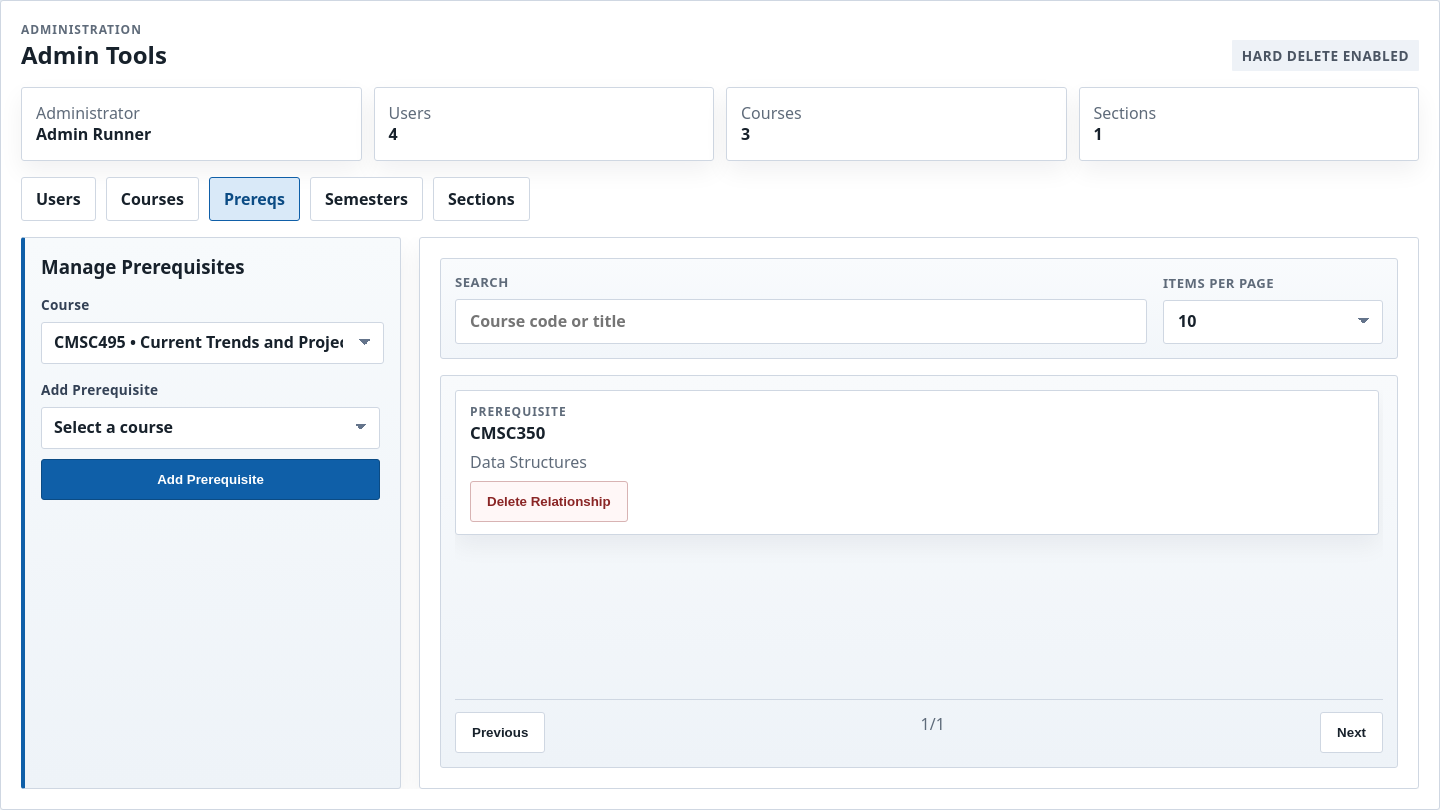
Scenario: AdminConsolePage › surfaces prerequisite cycle errors in the prerequisite workflow
The image size is (1440, 810).
expect the heading "Manage Prerequisites" is shown: met, box [41,254,245,279]
Step 1. Select "CMSC350 • Data Structures" in the dropdown labelled "Add Prerequisite" → point(210, 428), box [41,407,380,449]
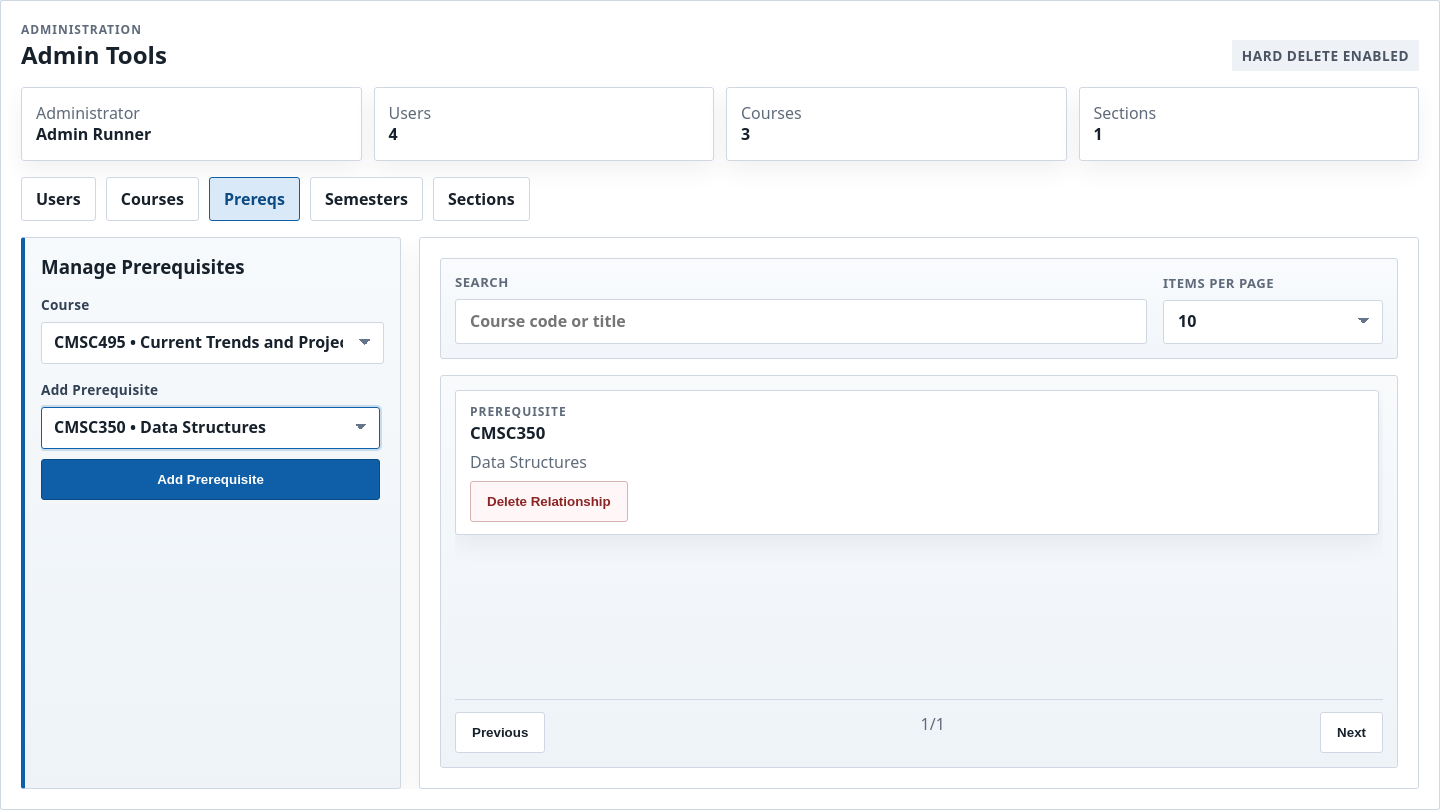
Step 2. Click the button "Add Prerequisite" → point(210, 479), box [41,459,380,500]
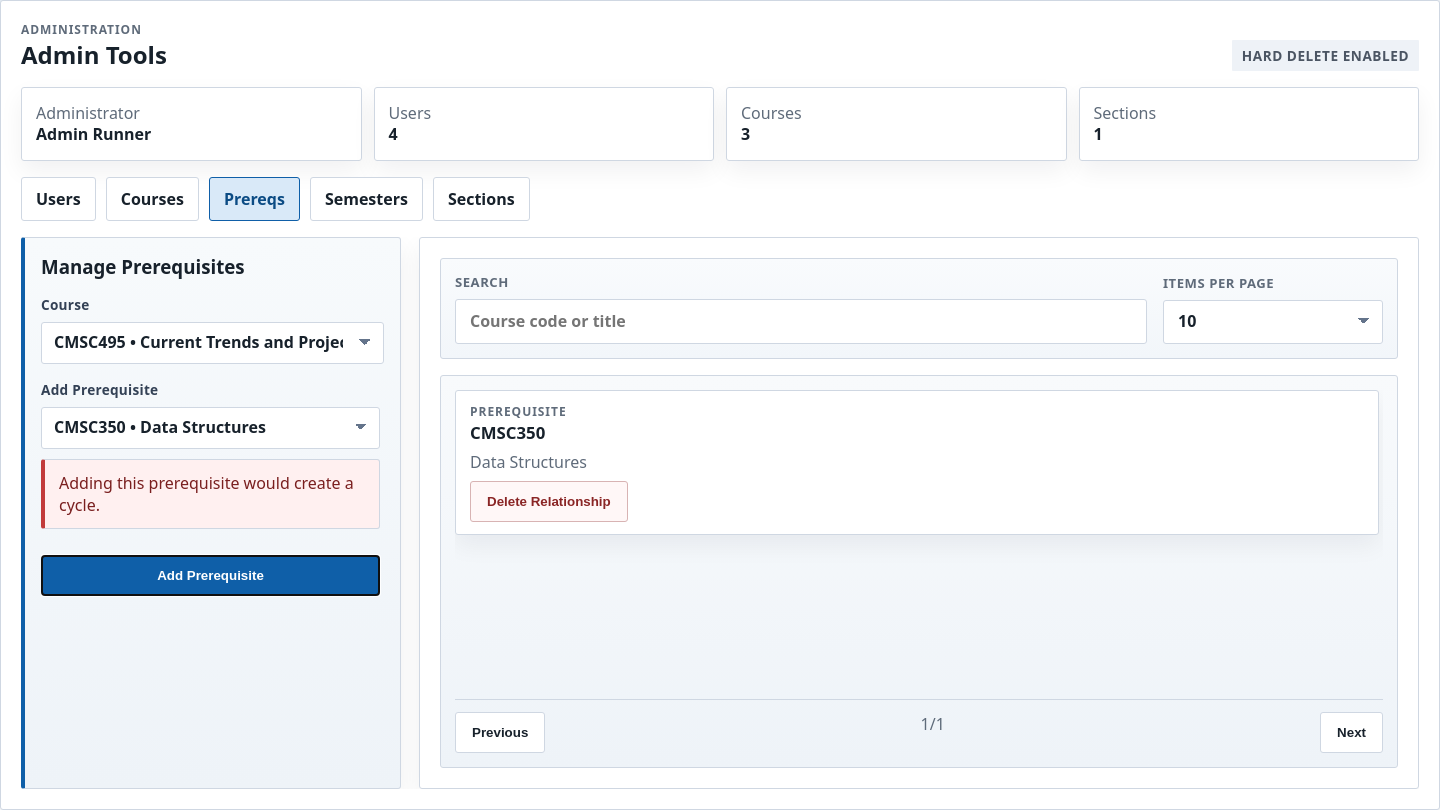
expect the text "Adding this prerequisite would create a cycle." is shown: met, box [41,459,380,529]
